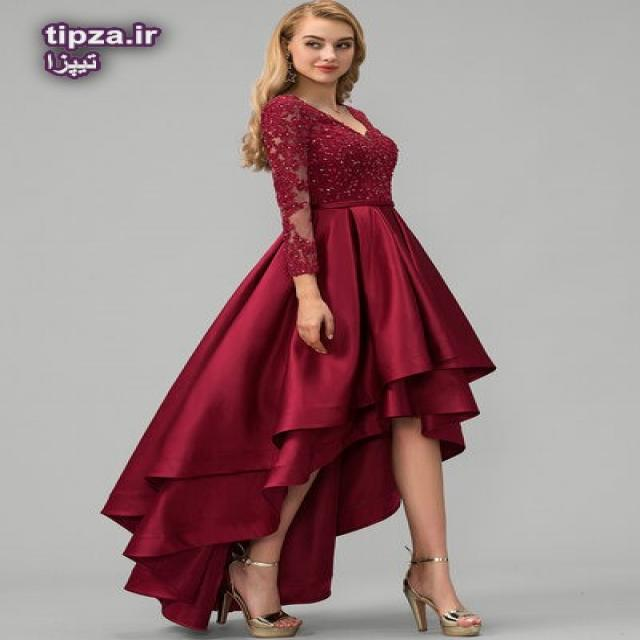clothes: (102, 89, 550, 629)
